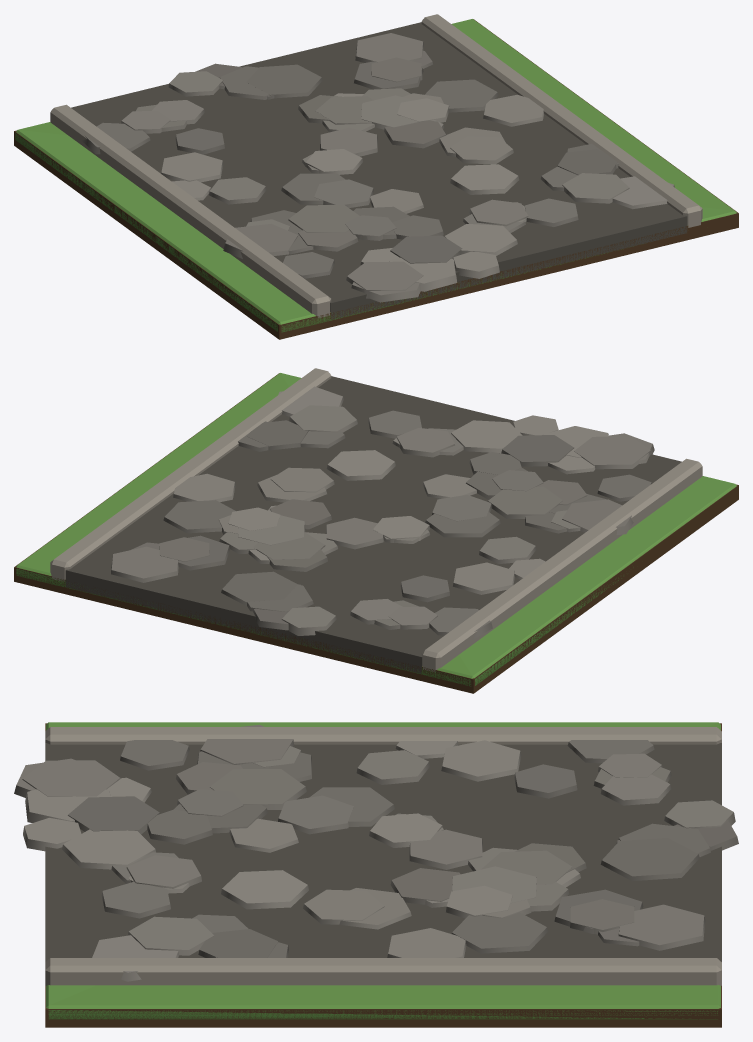
File: road-cobble-straight-01.glb
The picture shows the model from 3 angles, top to bottom: view 1: azimuth 30°, elevation 25°; view 2: azimuth 150°, elevation 25°; view 3: azimuth 270°, elevation 25°; orthographic projection. The views are drawn at different scales.
Visible parts, largest first — view 1: road_cobble_straight_01; view 2: road_cobble_straight_01; view 3: road_cobble_straight_01.
Boxes of the visible parts, x1,y1,x2,y2 form: road_cobble_straight_01: [14, 14, 738, 339]; road_cobble_straight_01: [14, 368, 738, 693]; road_cobble_straight_01: [14, 722, 738, 1027].
Bounding box in the file's own units: 4 × 0.2501 × 4.29.
